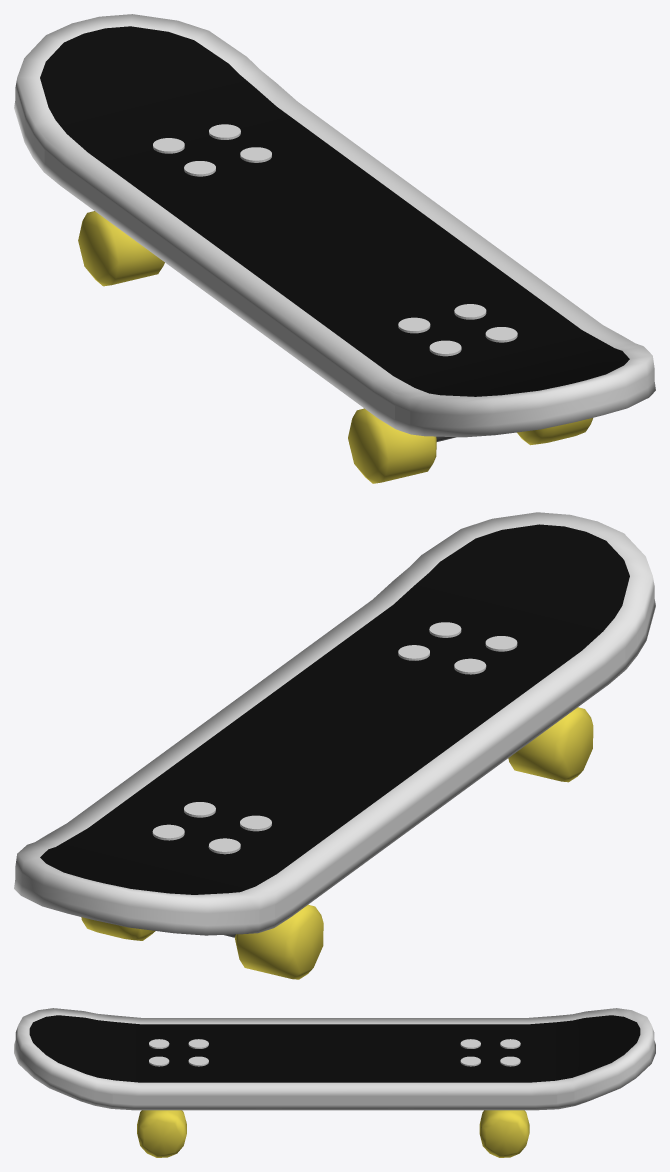
Rendered from skate_test_2.glb.
The picture shows the model from 3 angles, top to bottom: view 1: azimuth 30°, elevation 25°; view 2: azimuth 150°, elevation 25°; view 3: azimuth 270°, elevation 25°; orthographic projection. The views are drawn at different scales.
Parts seen in each view (by area): view 1: Plastic White.001, skate_roue_1.002, skate_roue_1.001, skate_roue_2.002; view 2: Plastic White.001, skate_roue_1.001, skate_roue_1.002, skate_roue_2.001; view 3: Plastic White.001, skate_roue_2.001, skate_roue_2.002.
Part boxes in pixels (x1,y1,x2,y2): Plastic White.001: (14, 14, 655, 437); skate_roue_1.002: (348, 408, 436, 483); skate_roue_1.001: (78, 211, 164, 286); skate_roue_2.002: (517, 418, 592, 445); Plastic White.001: (14, 512, 655, 935); skate_roue_1.001: (235, 904, 323, 979); skate_roue_1.002: (508, 707, 593, 782); skate_roue_2.001: (81, 917, 155, 940); Plastic White.001: (14, 1008, 655, 1110); skate_roue_2.001: (479, 1110, 529, 1157); skate_roue_2.002: (137, 1110, 186, 1157).
Bounding box in the file's own units: 2 × 1.28 × 7.6.
